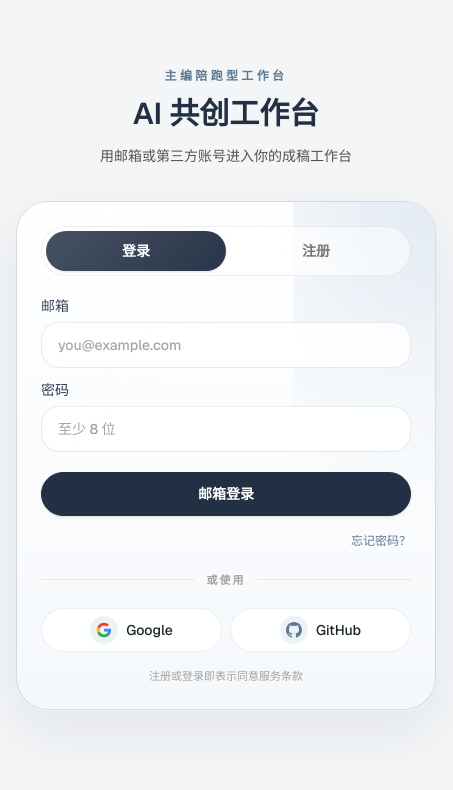
Test: LoginPage › blocks registration when the email already exists
The image size is (453, 790).
Click the button "注册" at (316, 250), box 226,230 -> 406,270
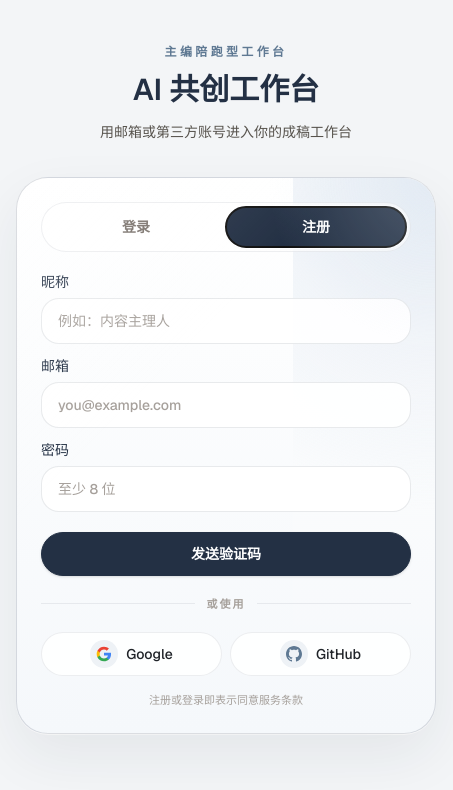
Type "内容主理人" into the field labelled "昵称" at (226, 320), box 41,298 -> 411,344
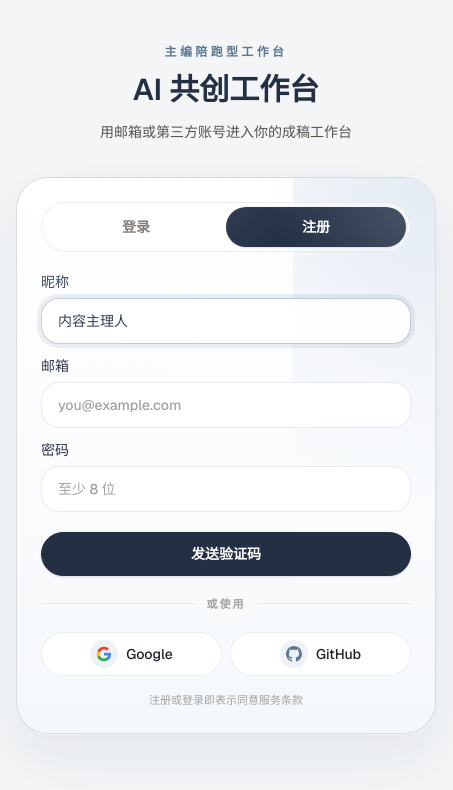
Type "reader@qq.com" into the field labelled "邮箱" at (226, 404), box 41,382 -> 411,428
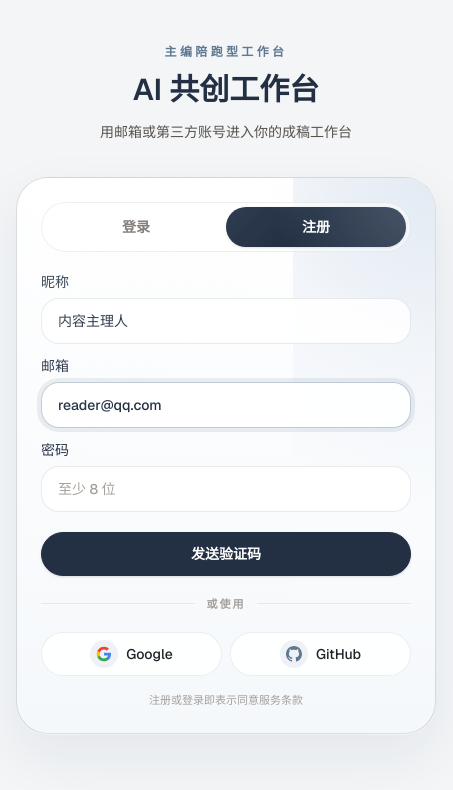
Type "password123" into the password field labelled "密码" at (226, 488), box 41,466 -> 411,512
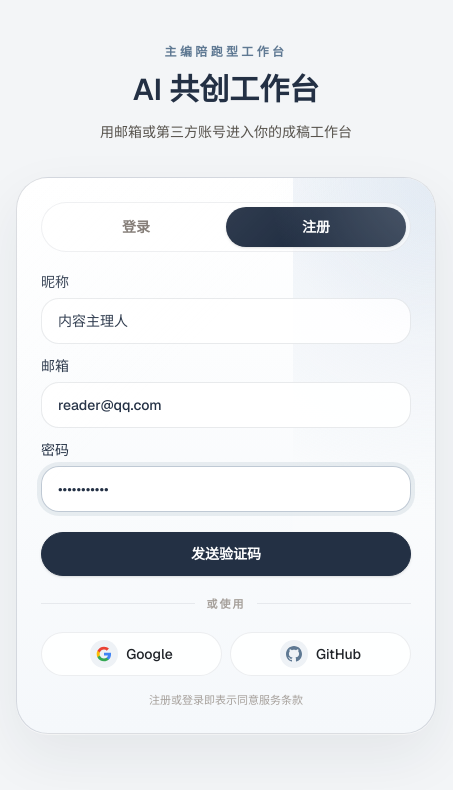
Click the button "发送验证码" at (226, 554), box 41,532 -> 411,576
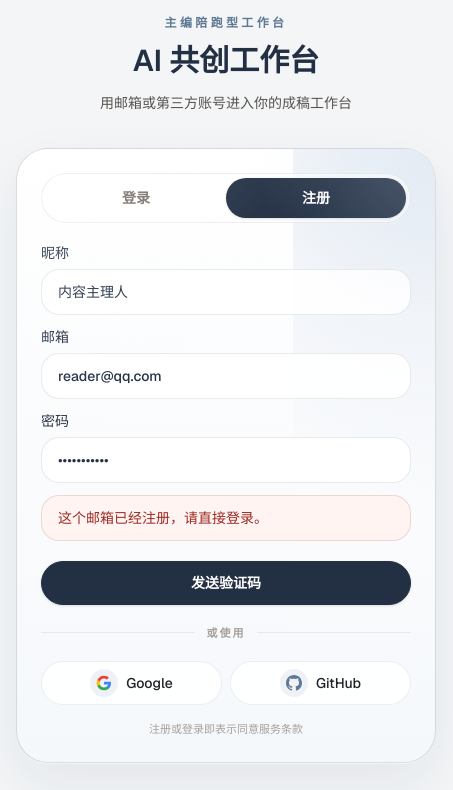
Expected: the text "这个邮箱已经注册，请直接登录。" is shown, 41,494 -> 411,540
